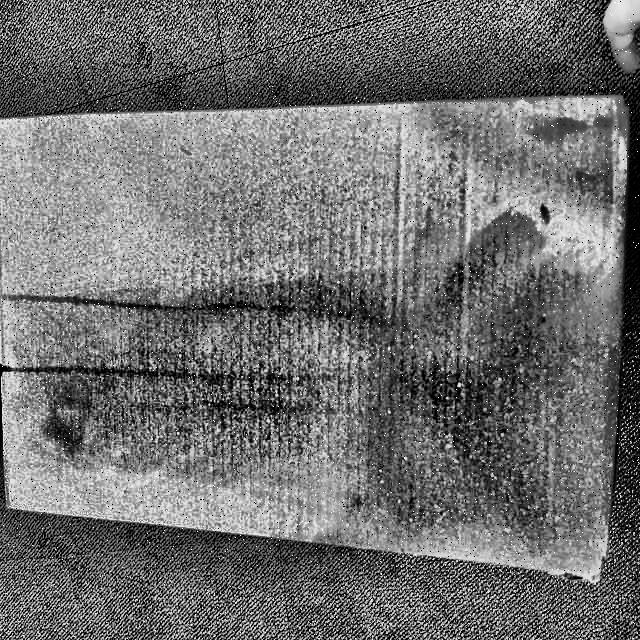box: (0, 91, 636, 585)
wet: (312, 216, 624, 580)
